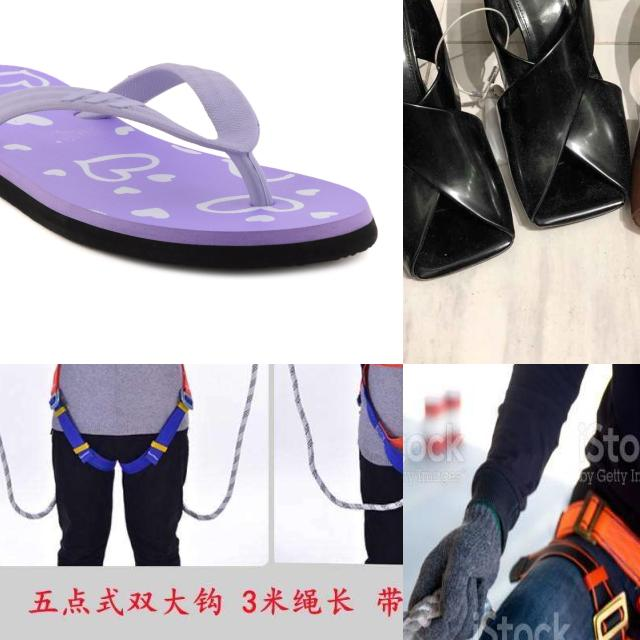Harness: (520, 492, 640, 640), (48, 364, 191, 471)
Sandals: (0, 60, 379, 276), (403, 0, 640, 289)
